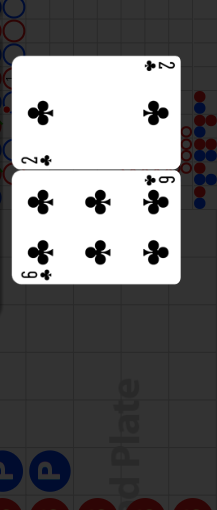2C: (142, 59, 176, 73)
6C: (20, 267, 55, 282)
